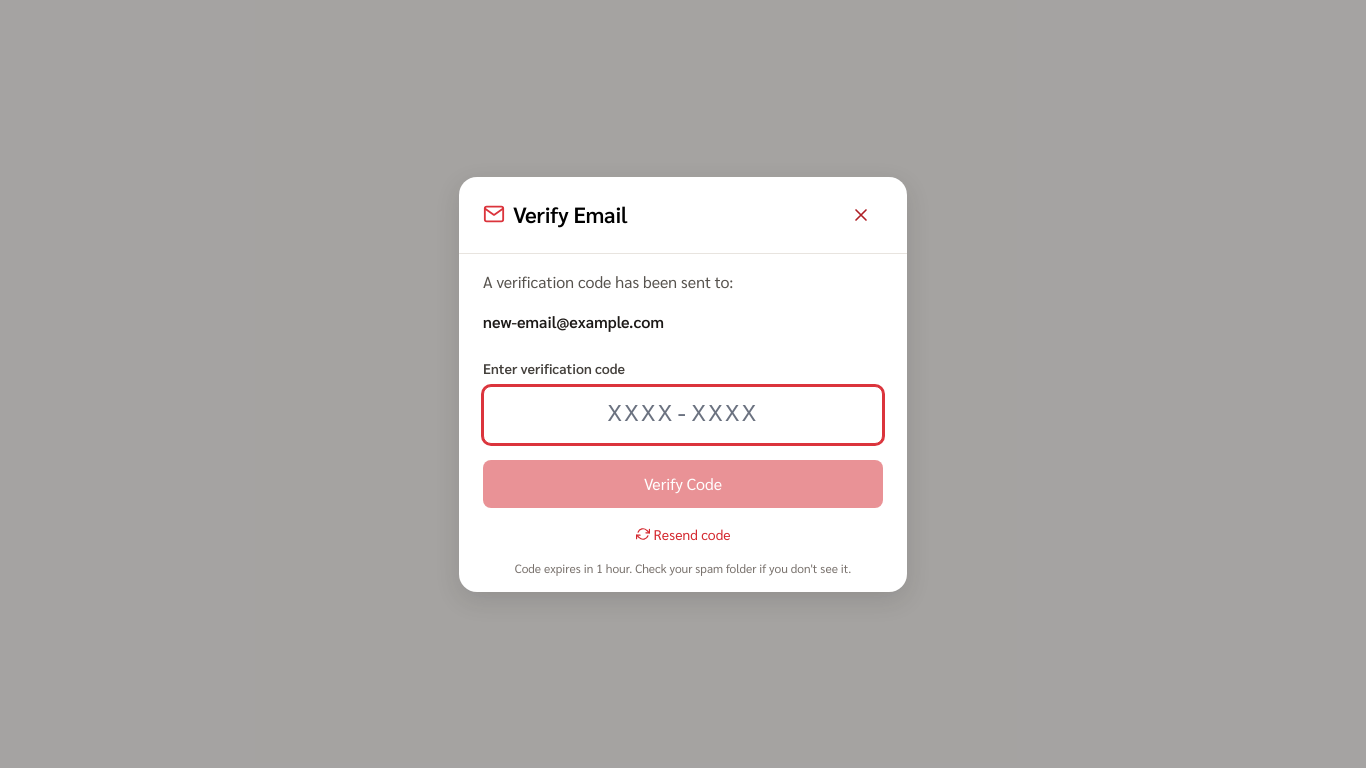
Test: EmailVerificationModal › Submission › should surface the "temporarily unavailable" error when submitting a valid-format code
Type "ab12cd34" into the field with test id "verification-code-input" at (683,414), box [483, 386, 883, 444]
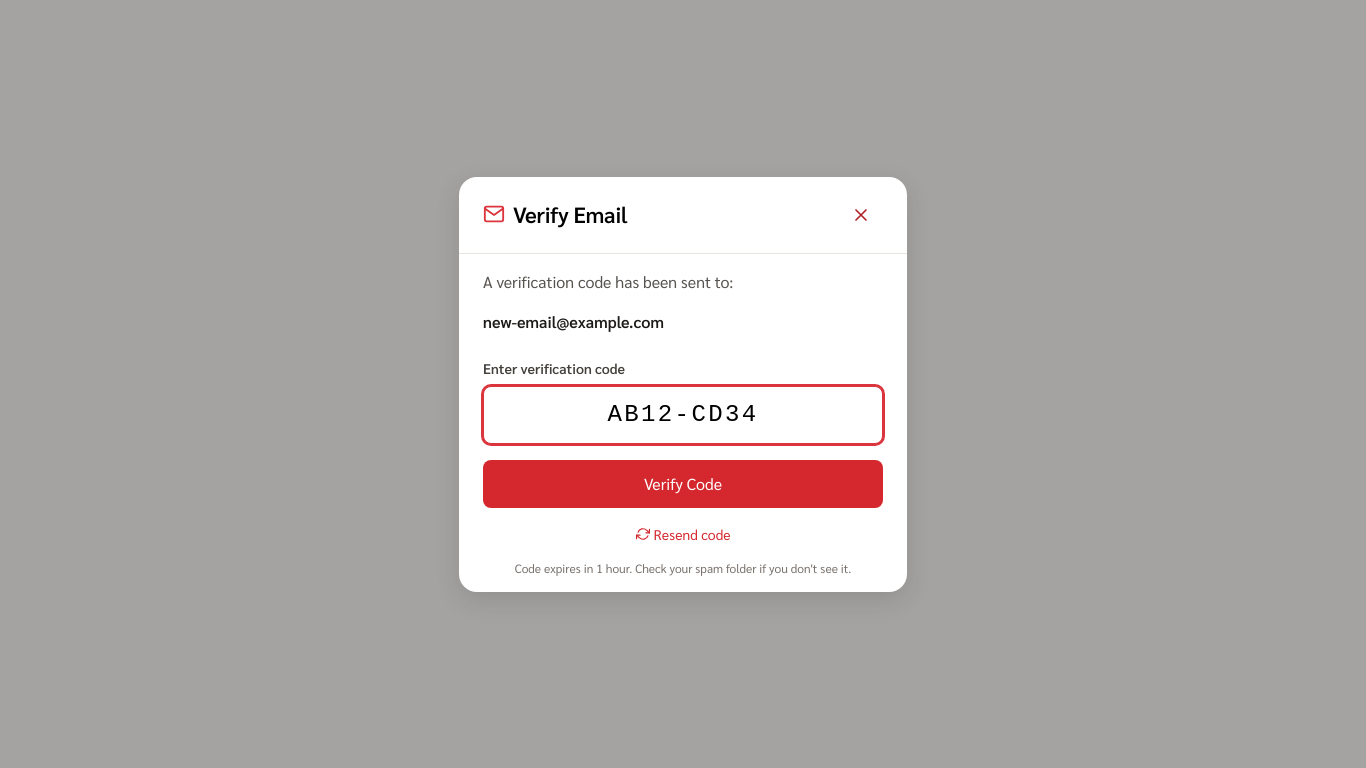
Click the button with test id "verify-button" at (683,484), box [483, 460, 883, 508]
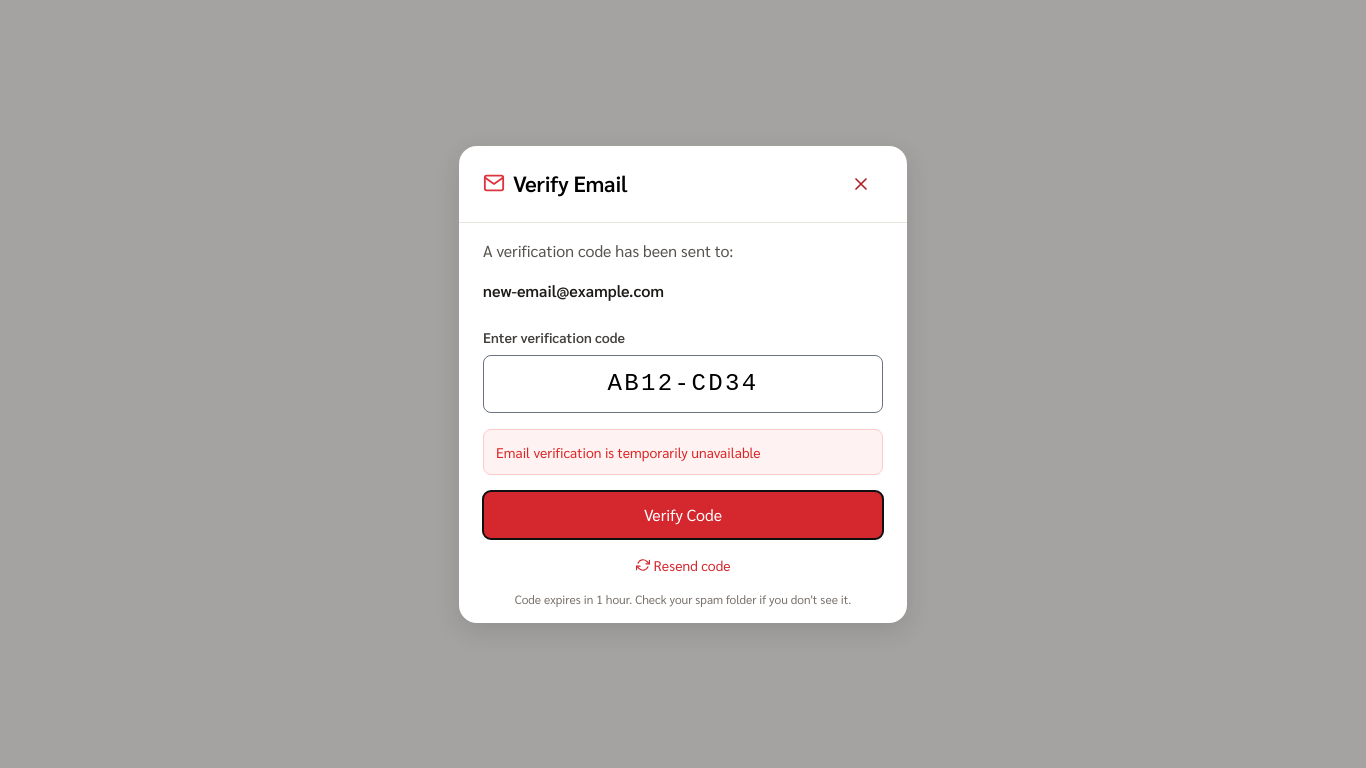
Expected: the text "Email verification is temporarily unavailable" is shown, [483, 428, 883, 474]
